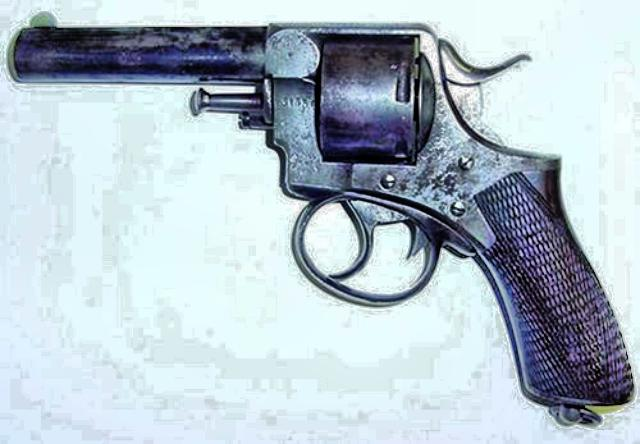pistol: (9, 13, 633, 429)
